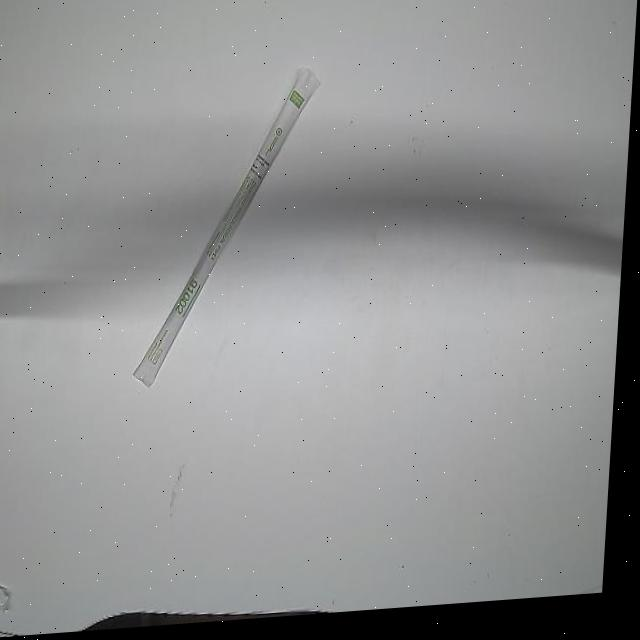Serelogical Pipet 2 mL - Sealed: (136, 68, 323, 394)
